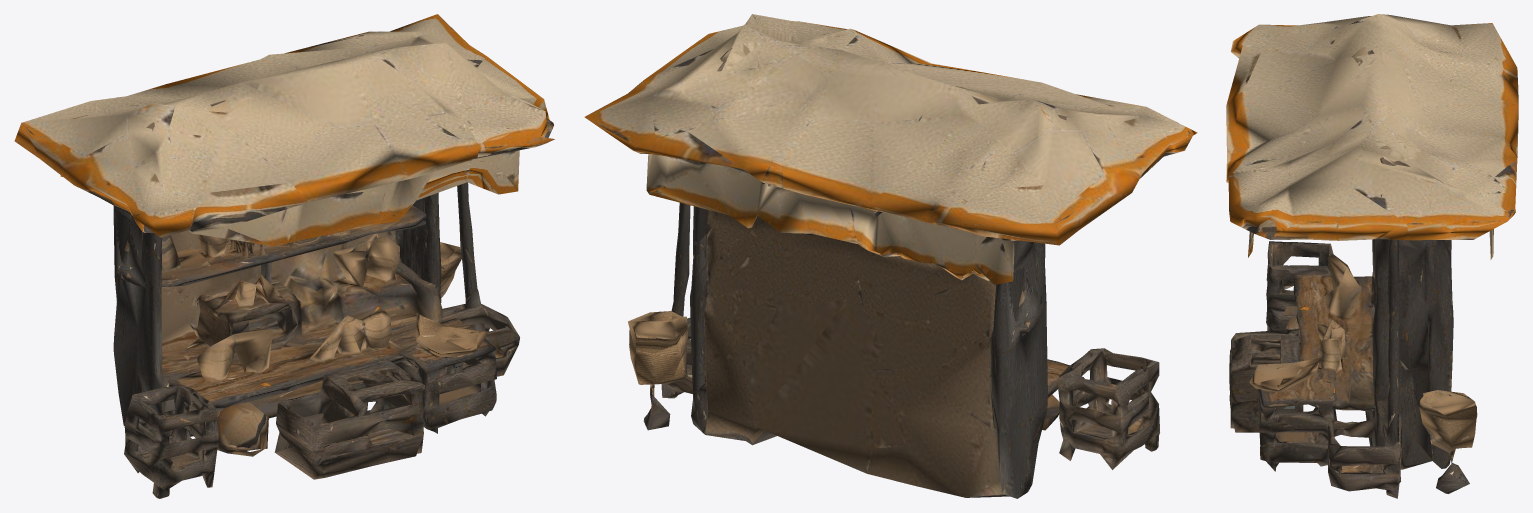
File: stall.glb
The picture shows the model from 3 angles, left to right: view 1: azimuth 30°, elevation 25°; view 2: azimuth 150°, elevation 25°; view 3: azimuth 270°, elevation 25°; orthographic projection. The views are drawn at different scales.
Bounding box in the file's own units: 1.87 × 1.41 × 1.14.
Materials: 1 (1 with a texture image).
